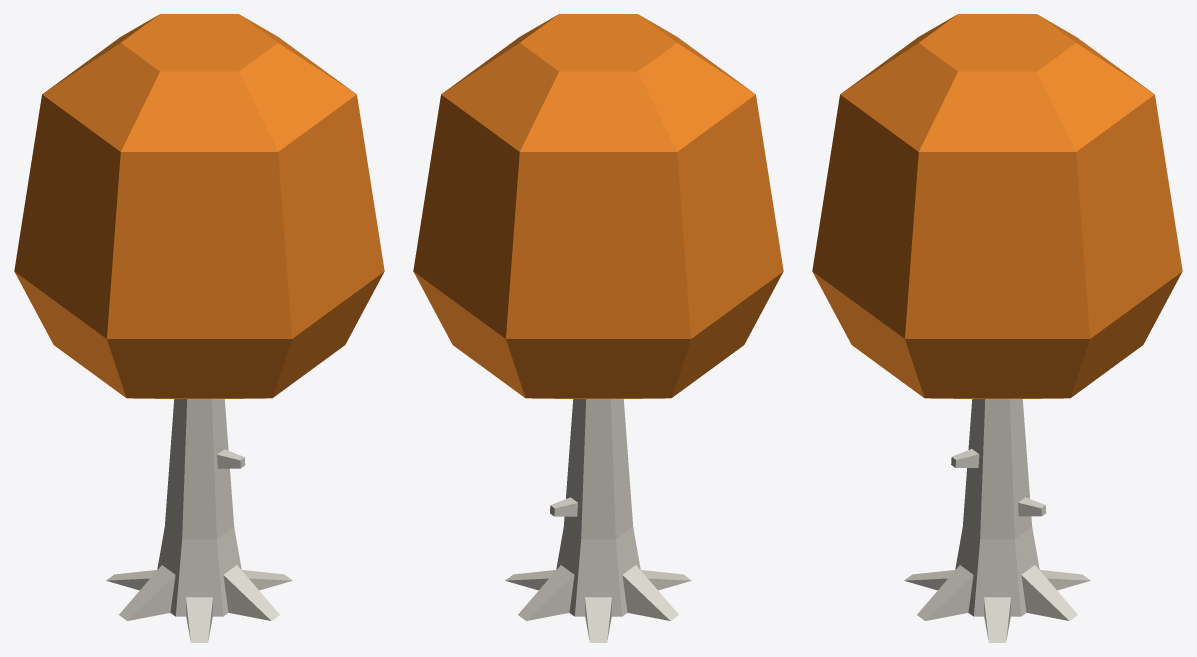
Rendered from halo_tree_oak_fall.obj.
3 renders of one model, left to right at view 1: azimuth 30°, elevation 25°; view 2: azimuth 150°, elevation 25°; view 3: azimuth 270°, elevation 25°, orthographic.
Parts seen in each view (by area): view 1: tree_oak_fall; view 2: tree_oak_fall; view 3: tree_oak_fall.
Part boxes in pixels (x1,y1,x2,y2): tree_oak_fall: (14,14,384,642); tree_oak_fall: (413,14,783,642); tree_oak_fall: (812,14,1182,642).
Size of the model in its own units: 0.6406 by 1.23 by 0.7396.
